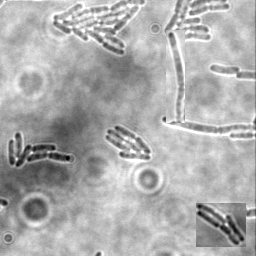Dividing: (161, 114, 255, 133), (166, 30, 185, 123)
Microcolony: (51, 1, 147, 56), (162, 1, 231, 44), (8, 130, 72, 167), (196, 203, 246, 247), (106, 124, 153, 160), (208, 63, 240, 74)
